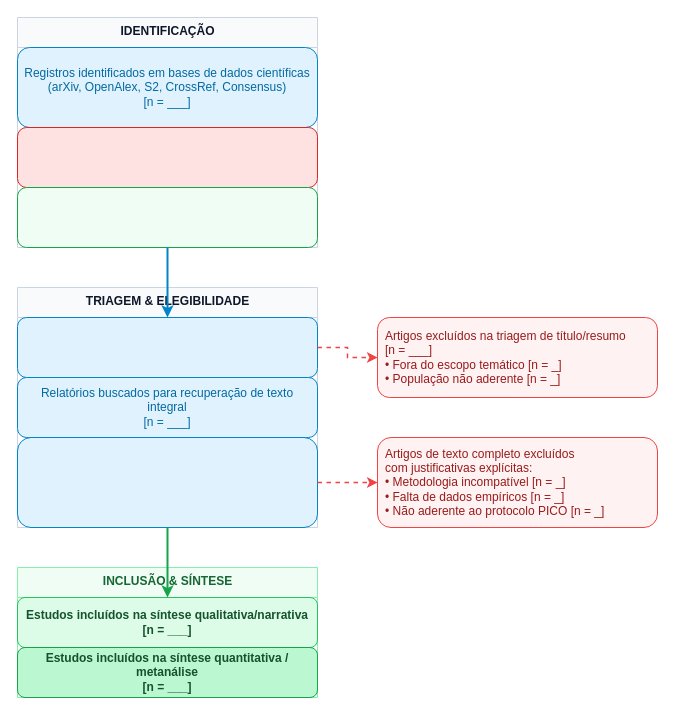
This 675x715 diagram has some shape labels left out. The shapes that lost their labels are listed below. From the top down, each one's centre as x and y in pixels, then its label:
point (167, 157): Registros duplicados removidos antes da triagem [n = ___]
point (167, 217): Registros mantidos para triagem de título/resumo [n = ___]
point (167, 347): Artigos triados (título e resumo) [n = ___]
point (167, 482): Artigos de texto completo avaliados para elegibilidade [n = ___]
